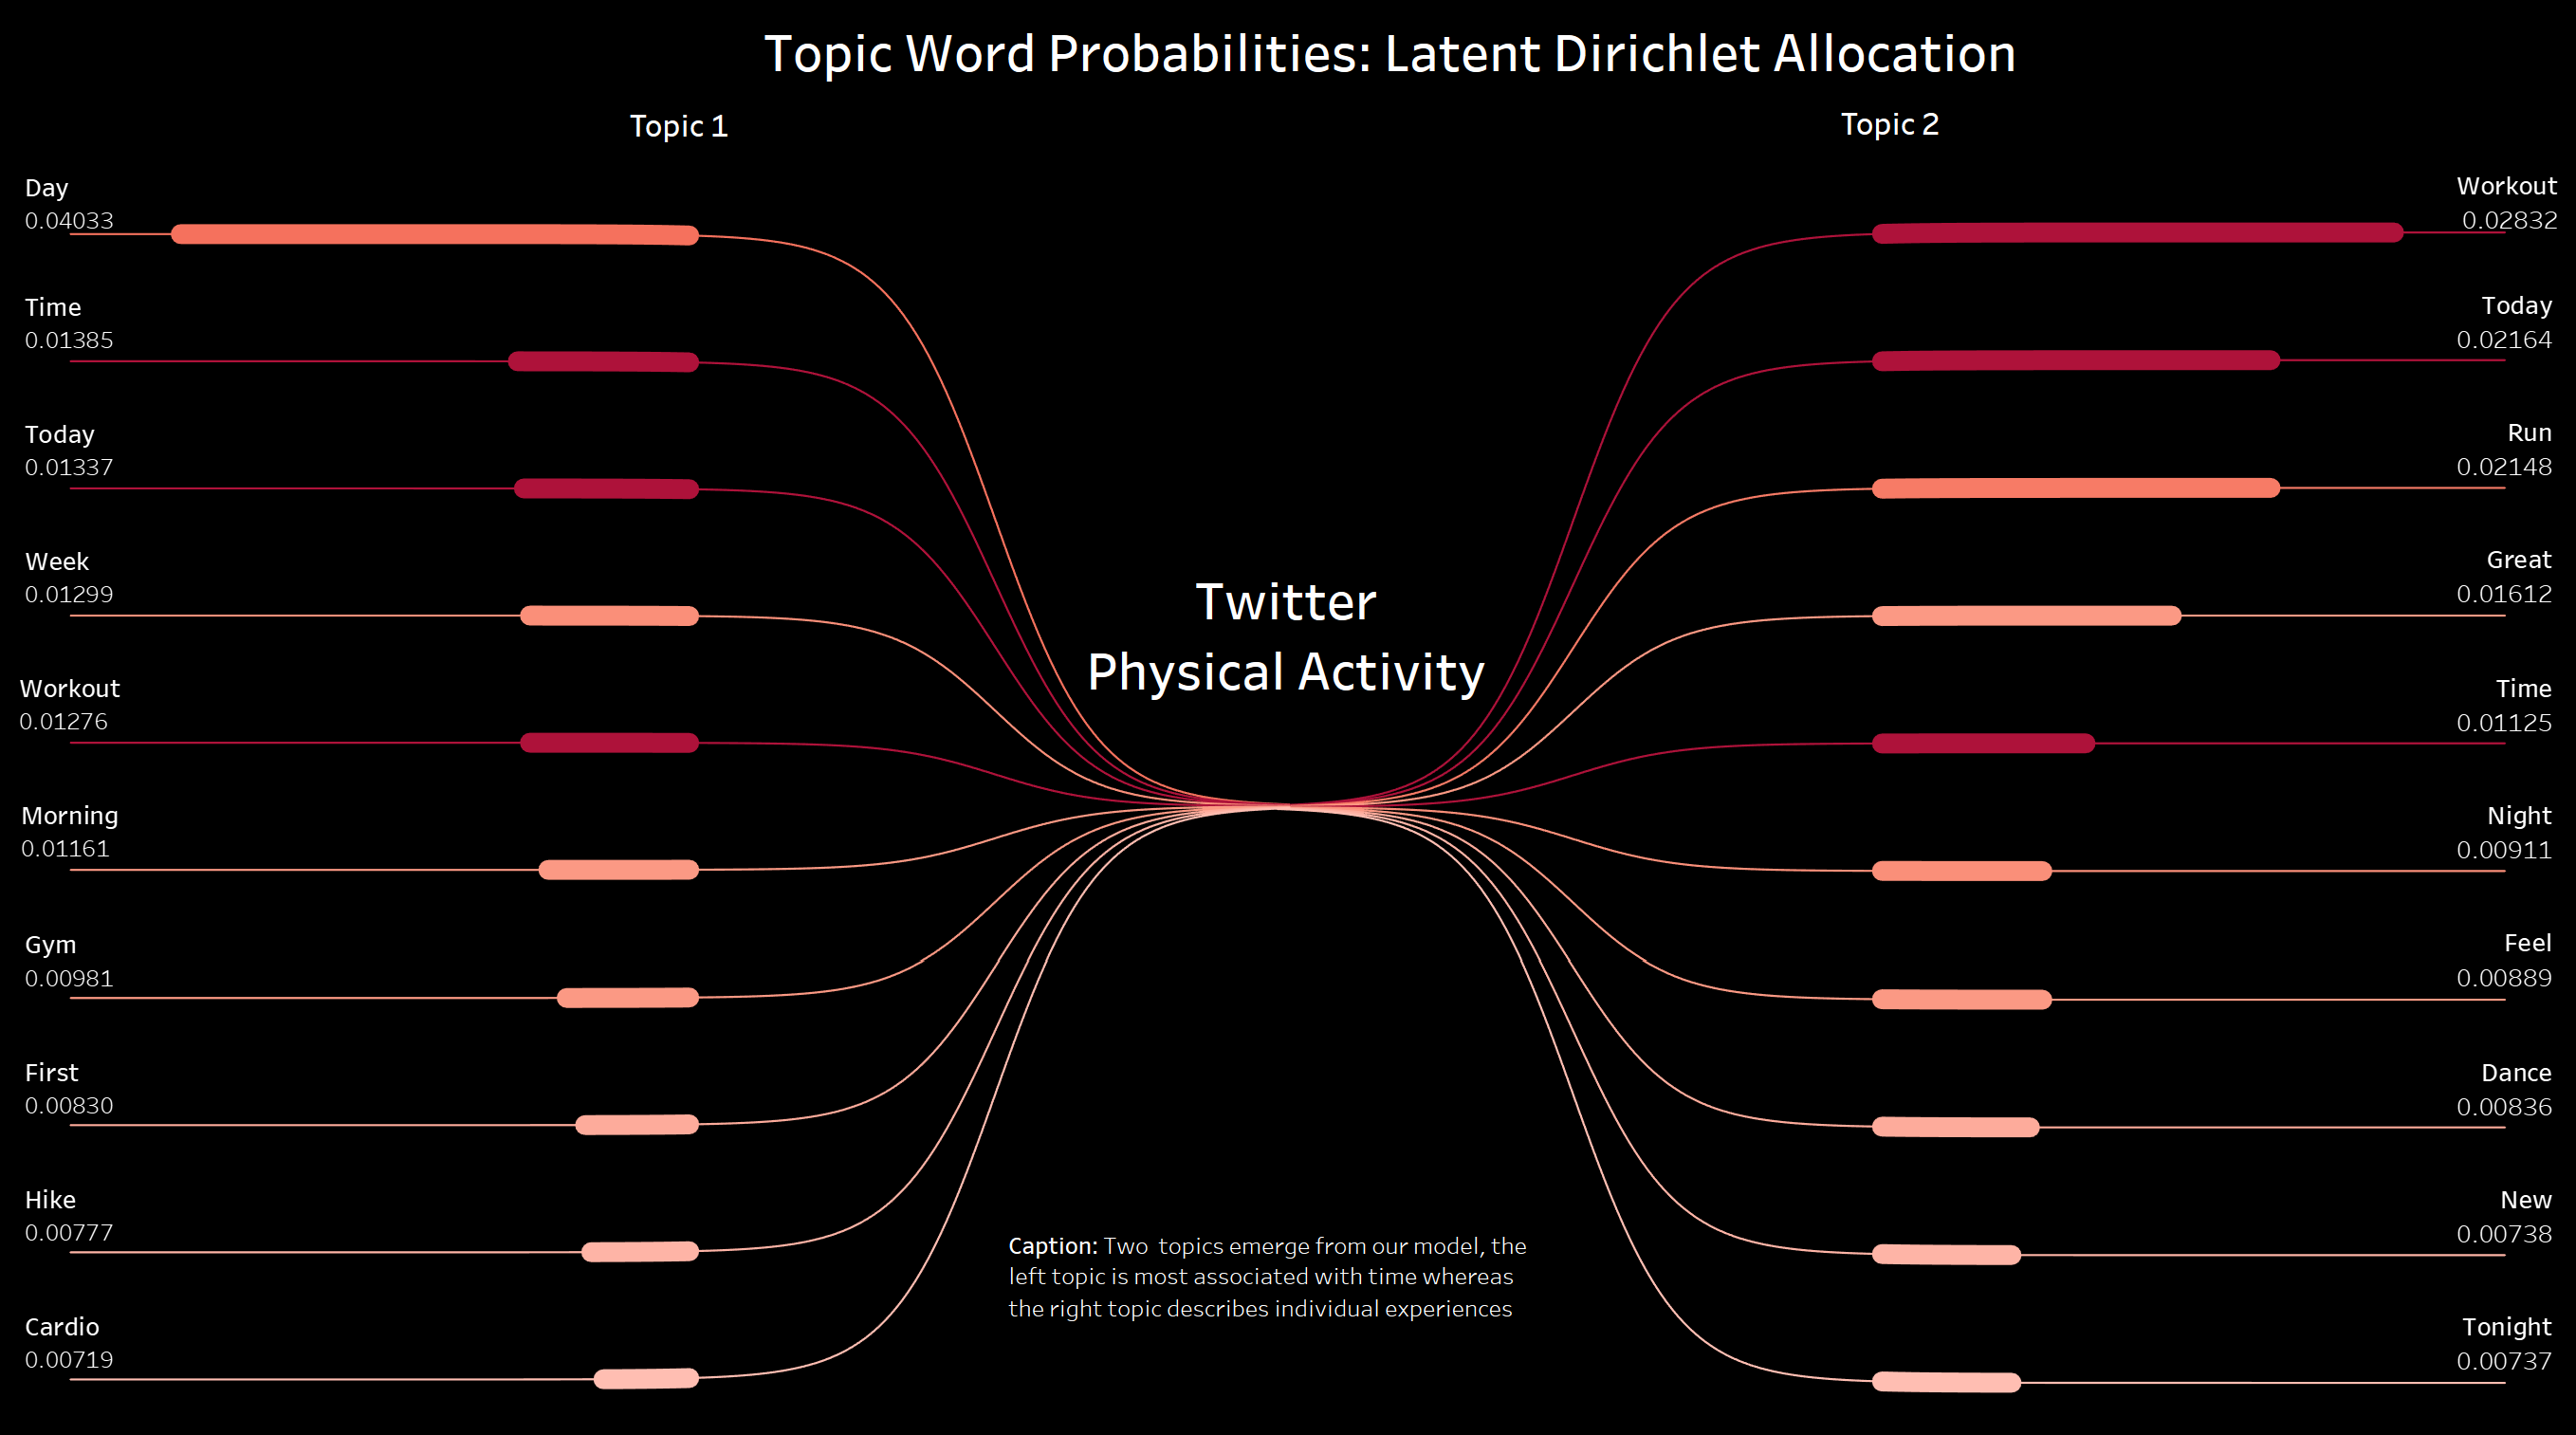

This screenshot's page, from the dashboard's own definition file:
{"tool":"tableau","page":{"name":"Physical Activity Dashboard (3)","canvas":[1366,768],"ordinal":4},"visuals":[{"type":"text","box":[237,12,1000,39]},{"type":"worksheet","title":"Activity LDA","mark":"Line","box":[644,54,713,714]},{"type":"worksheet","title":"Activity LDA2","mark":"Line","box":[8,55,708,711]},{"type":"text","box":[574,302,216,74]},{"type":"text","box":[533,593,289,168]}]}

Visuals, with their boxes in screenshot pixels (x1, y1, x2, y2), scaled from the page's 1366x768 canvas onto the 2576x1435 screenshot:
text: [left=447, top=23, right=2333, bottom=95]
"Activity LDA" worksheet (Line marks): [left=1214, top=101, right=2559, bottom=1434]
"Activity LDA2" worksheet (Line marks): [left=15, top=102, right=1351, bottom=1431]
text: [left=1082, top=564, right=1490, bottom=703]
text: [left=1005, top=1108, right=1550, bottom=1422]
